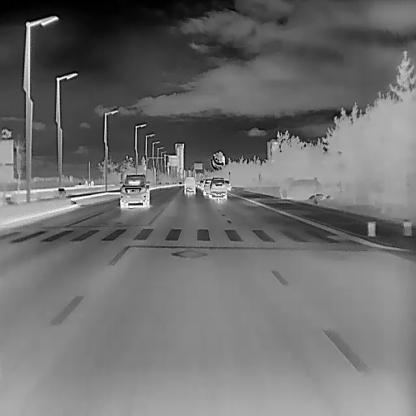car: (118, 174, 150, 208), (208, 176, 227, 199), (184, 176, 195, 194), (203, 180, 213, 195), (223, 180, 230, 192), (199, 179, 206, 190)
